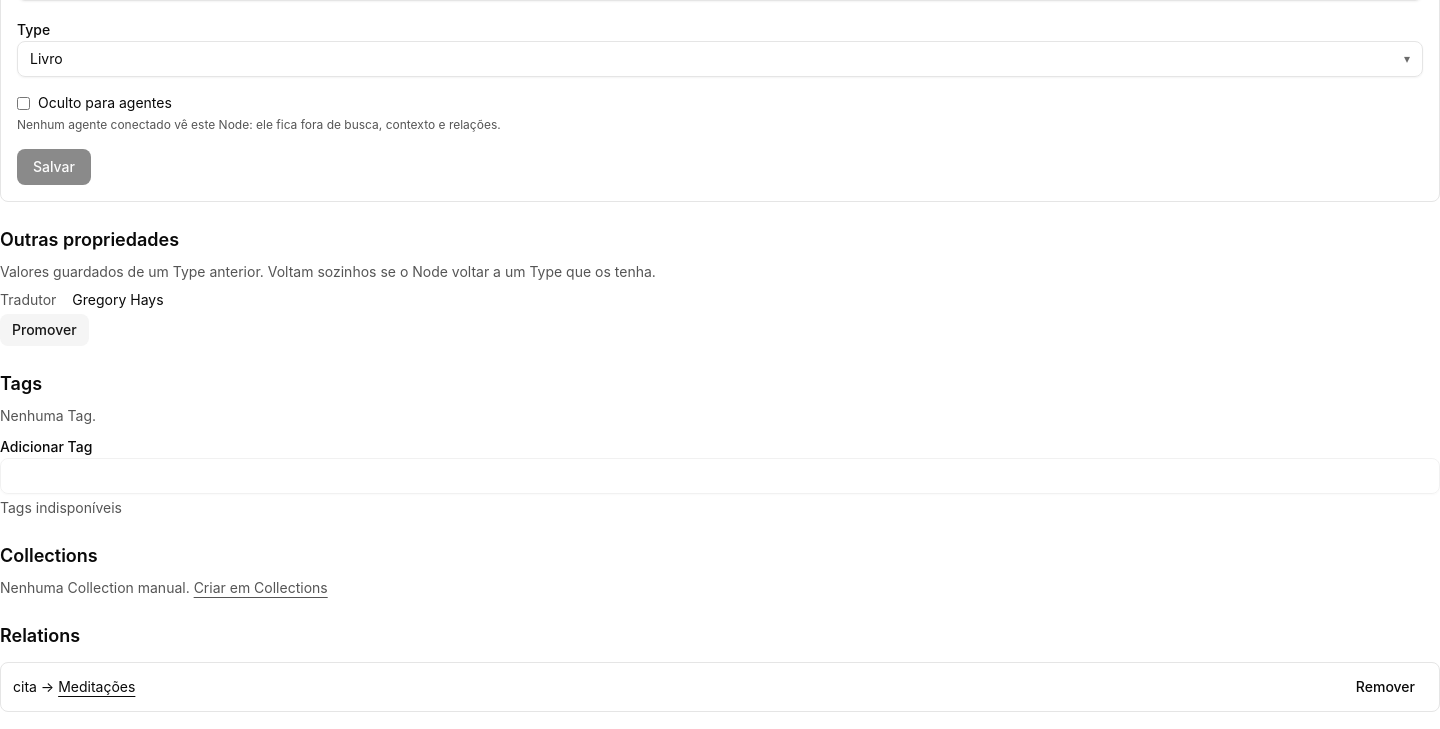
embedded node inspector › promoting an other property › attaches the row's own definition to the Node's Type and says every Node of the Type gets it
(page scrolled)
Click the button with aria-label "Promover Tradutor".
click(44, 330)  # box [0,314,89,346]
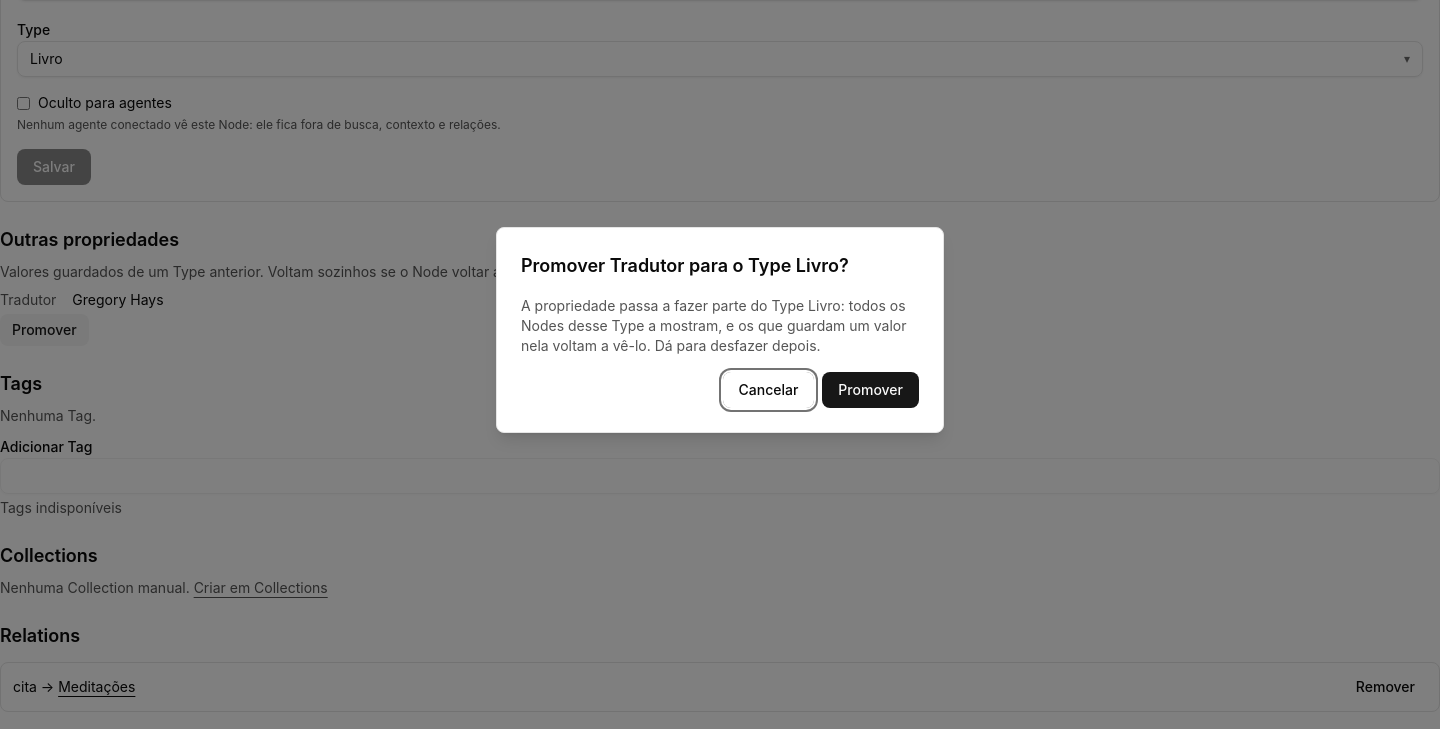
Click the button "Promover".
click(871, 390)  # box [822,372,919,408]
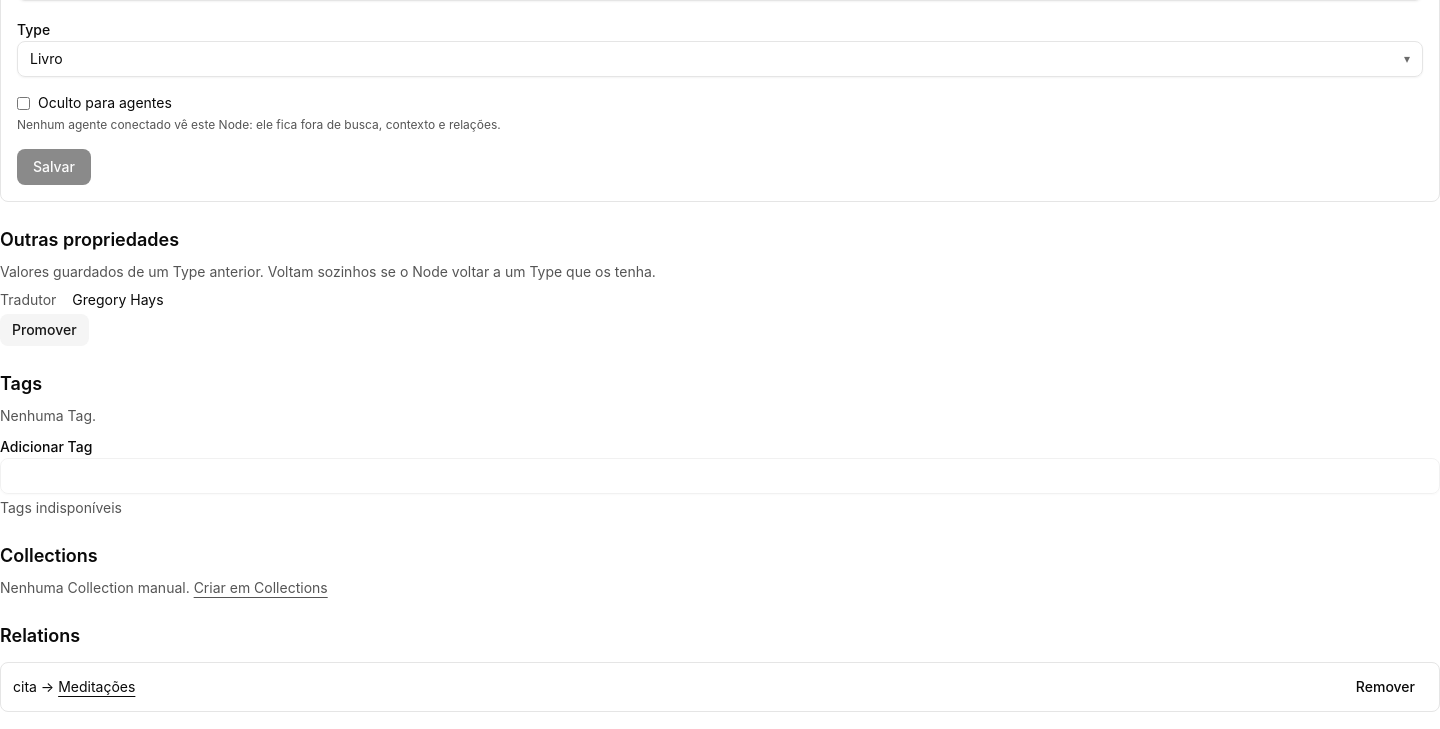
Check: the dialog is gone
